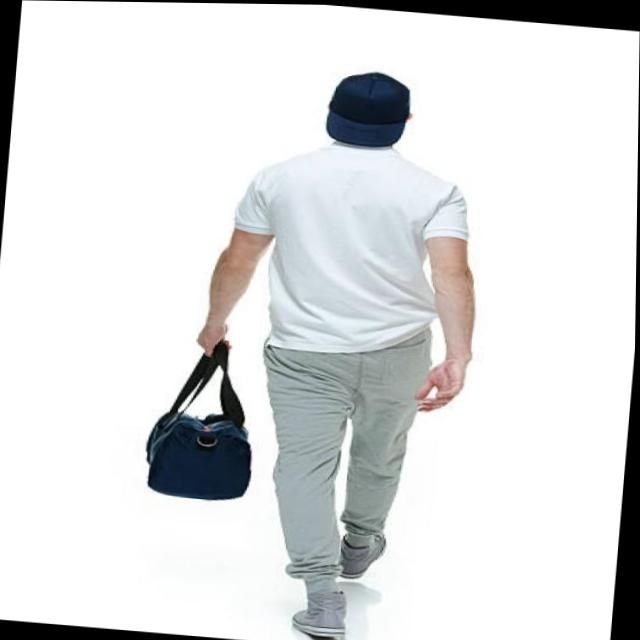no helmet: (302, 49, 431, 151)
